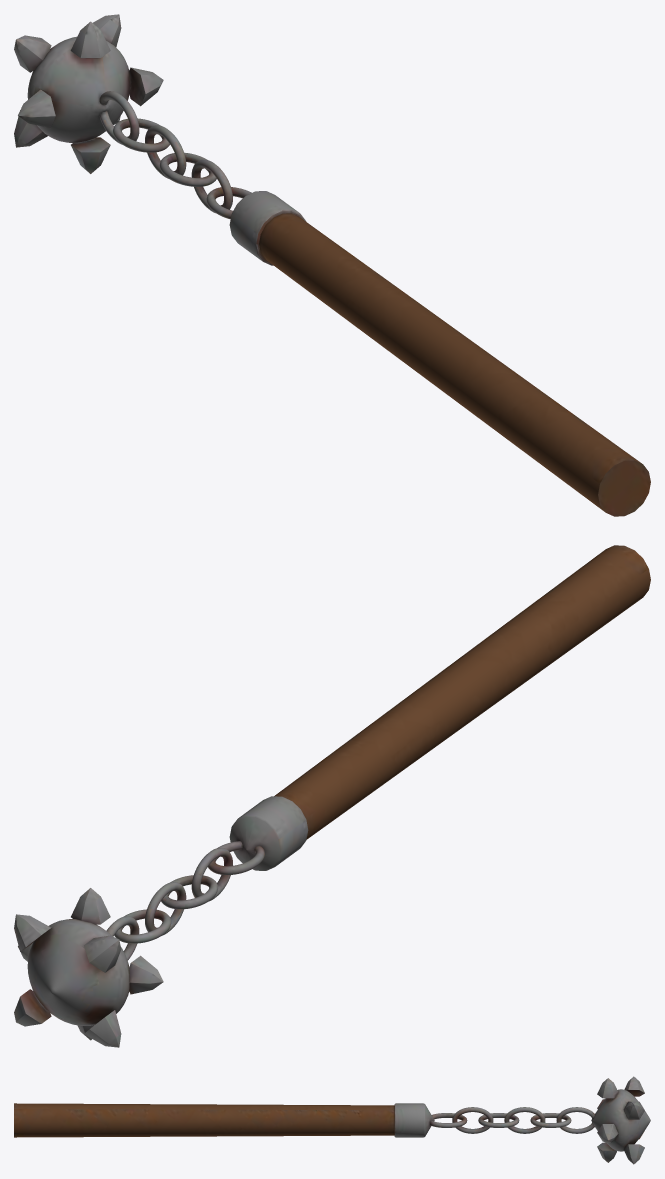
The model's file is flail.glb.
3 renders of one model, top to bottom at view 1: azimuth 30°, elevation 25°; view 2: azimuth 150°, elevation 25°; view 3: azimuth 270°, elevation 25°, orthographic. The views are drawn at different scales.
Visible parts, largest first — view 1: flail; view 2: flail; view 3: flail.
Part boxes in pixels (box(x1,y1,x2,y2)): flail: box(14, 14, 650, 516); flail: box(14, 545, 650, 1047); flail: box(14, 1076, 650, 1164).
Size of the model in its own units: 0.0936 by 0.0936 by 0.6359.
Materials: 1 (1 with a texture image).
